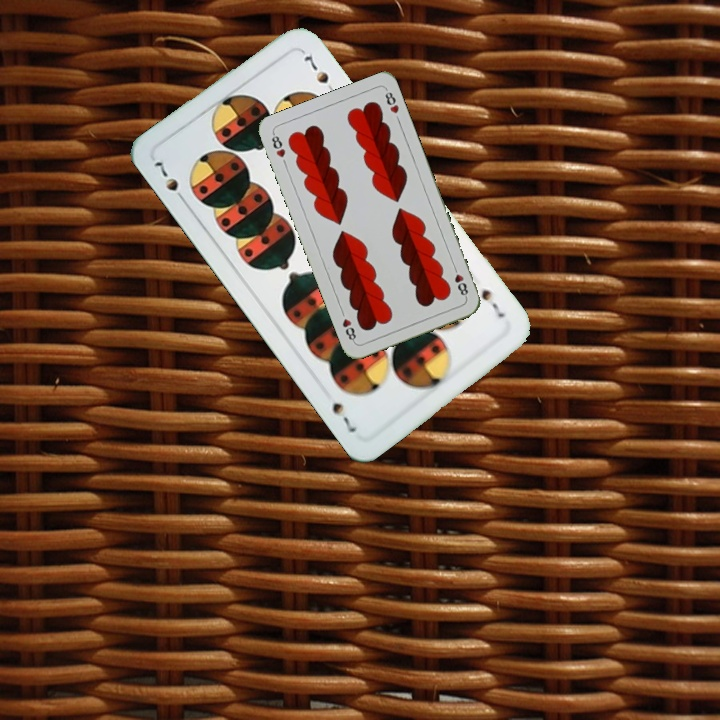H8: (449, 261, 471, 301), (267, 129, 288, 160)
S7: (150, 157, 189, 206), (477, 283, 508, 321)
